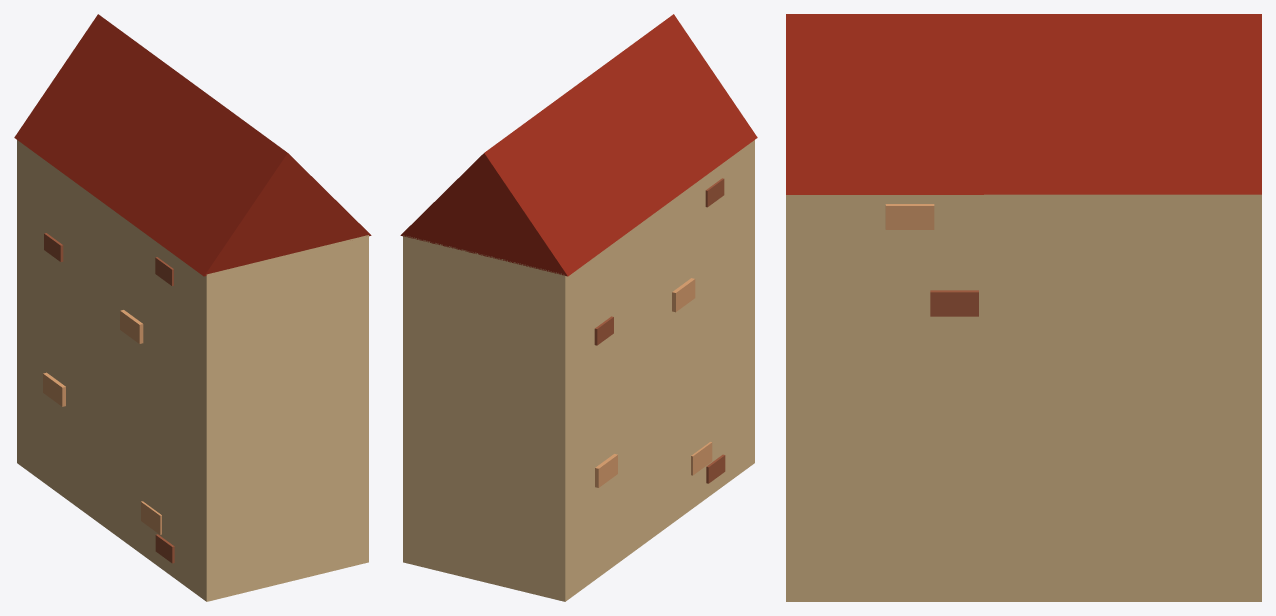
Rendered from Tower_4.glb.
3 views of the same model, side by side, from view 1: azimuth 30°, elevation 25°; view 2: azimuth 150°, elevation 25°; view 3: azimuth 270°, elevation 25° (orthographic). The views are drawn at different scales.
Parts seen in each view (by area): view 1: Tower_4; view 2: Tower_4; view 3: Tower_4.
Part boxes in pixels (x1,y1,x2,y2): Tower_4: (14, 14, 371, 601); Tower_4: (400, 14, 757, 601); Tower_4: (786, 14, 1261, 601).
Bounding box in the file's own units: 1.32 × 3.19 × 2.55.
